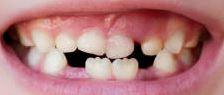Hypodontia: (62, 55, 90, 74), (135, 59, 161, 75)
